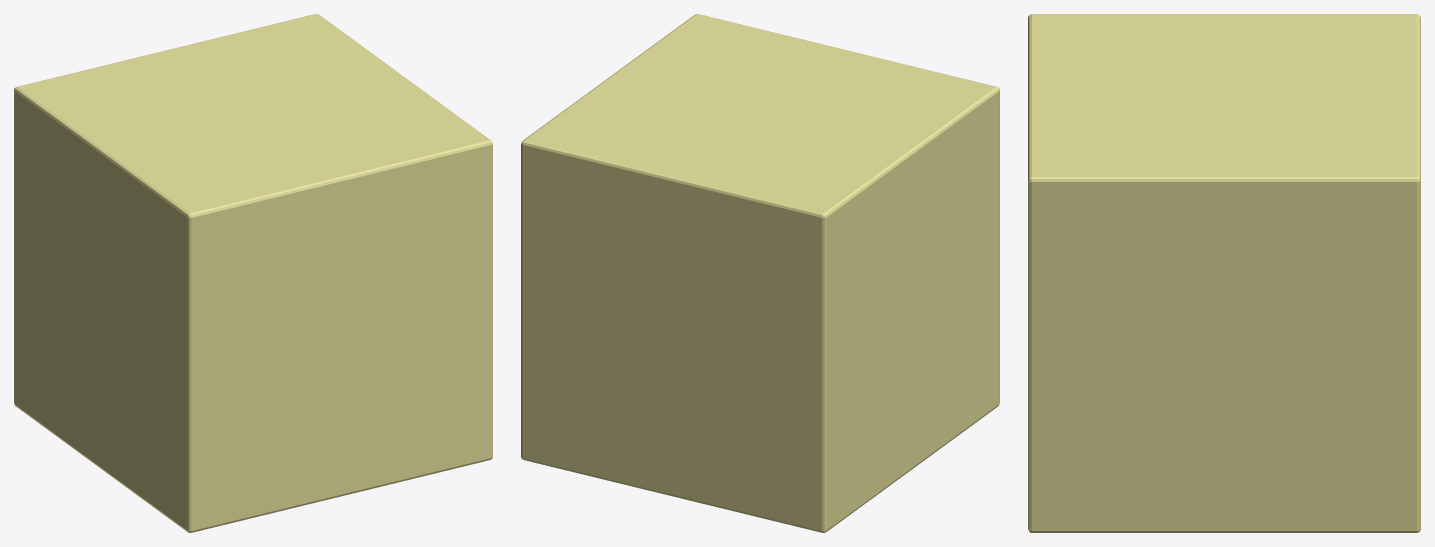
File: BTC.glb
3 renders of one model, left to right at view 1: azimuth 30°, elevation 25°; view 2: azimuth 150°, elevation 25°; view 3: azimuth 270°, elevation 25°, orthographic. The views are drawn at different scales.
Parts seen in each view (by area): view 1: BTC_big; view 2: BTC_big; view 3: BTC_big.
Boxes of the visible parts, x1,y1,x2,y2 form: BTC_big: [14, 14, 492, 532]; BTC_big: [521, 14, 999, 532]; BTC_big: [1028, 14, 1420, 532].
Bounding box in the file's own units: 3 × 3 × 3.
